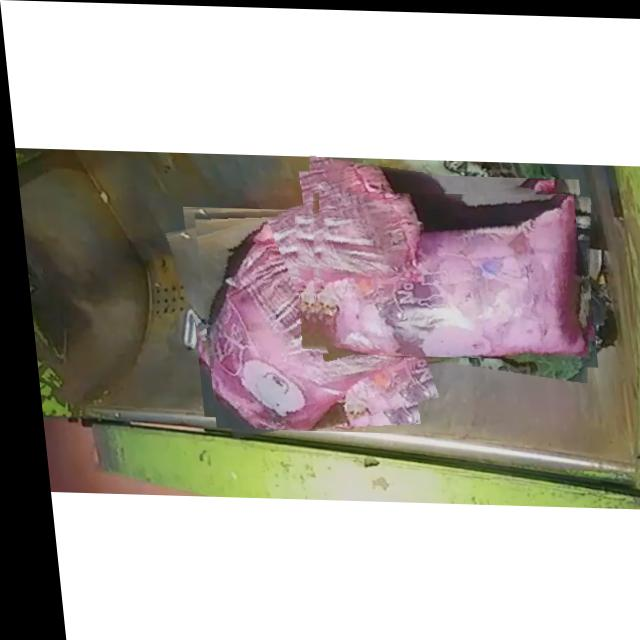other_trashbag: (305, 191, 581, 355), (202, 207, 402, 429)
